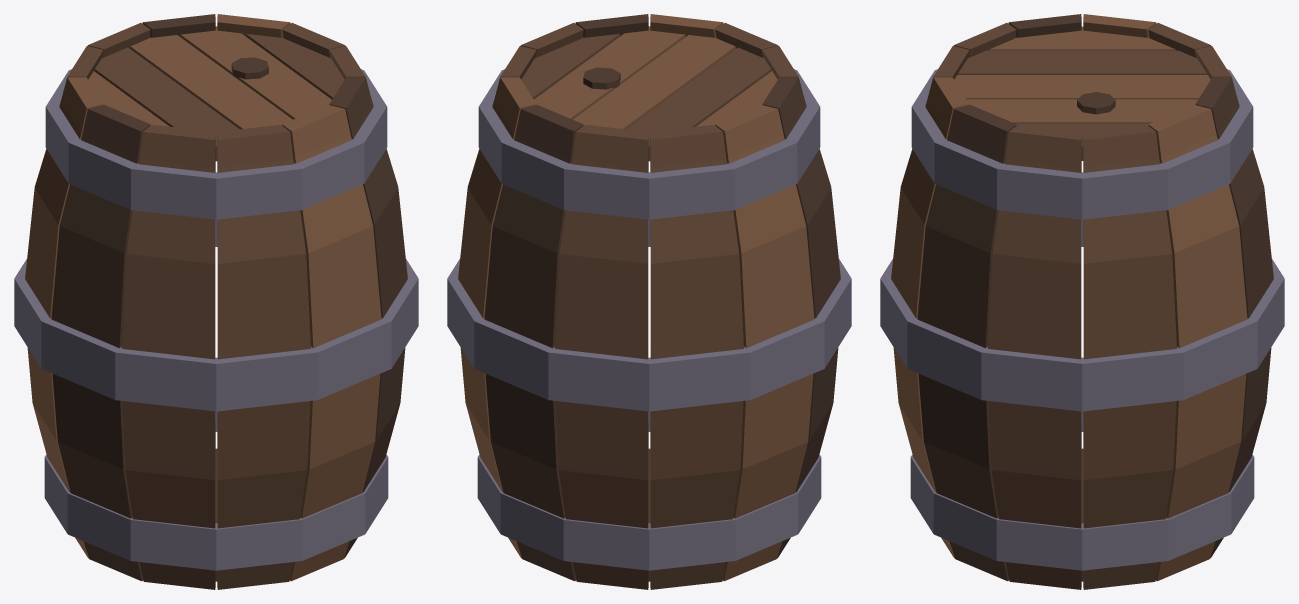
File: wooden_barrel.fbx
The picture shows the model from 3 angles, left to right: view 1: azimuth 30°, elevation 25°; view 2: azimuth 150°, elevation 25°; view 3: azimuth 270°, elevation 25°; orthographic projection.
Parts seen in each view (by area): view 1: SM_Dungeon_Barrel; view 2: SM_Dungeon_Barrel; view 3: SM_Dungeon_Barrel.
Boxes of the visible parts, bbox=[...] form: SM_Dungeon_Barrel: bbox=[14, 14, 418, 589]; SM_Dungeon_Barrel: bbox=[447, 14, 851, 589]; SM_Dungeon_Barrel: bbox=[880, 14, 1284, 589].
Bounding box in the file's own units: 0.732 × 0.9 × 0.732.
